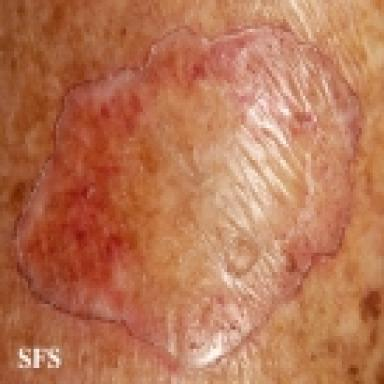Porokeratosis: (18, 31, 359, 369)
